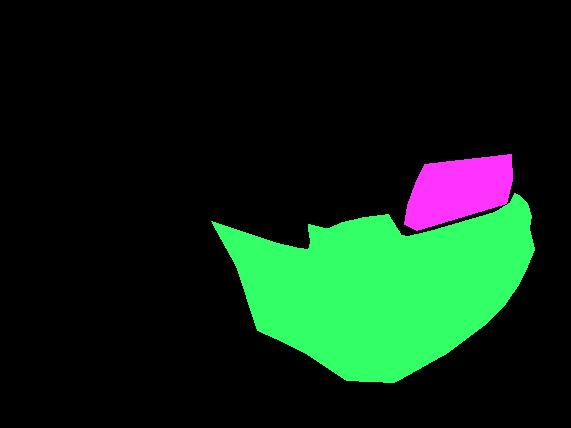Broken part: (211, 193, 534, 382)
Dent: (404, 154, 512, 230)
